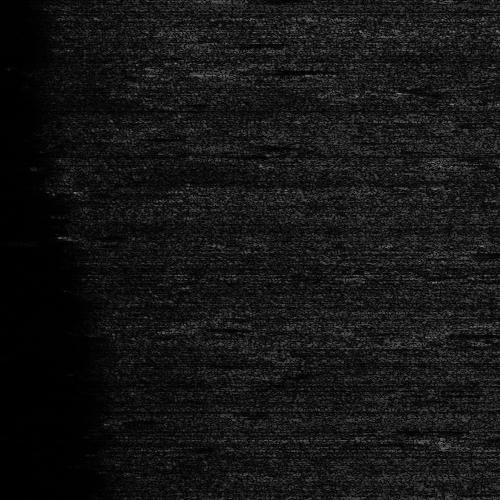object: (395, 434, 500, 449), (205, 67, 278, 74)
shadow: (447, 434, 500, 449), (242, 67, 313, 74)
